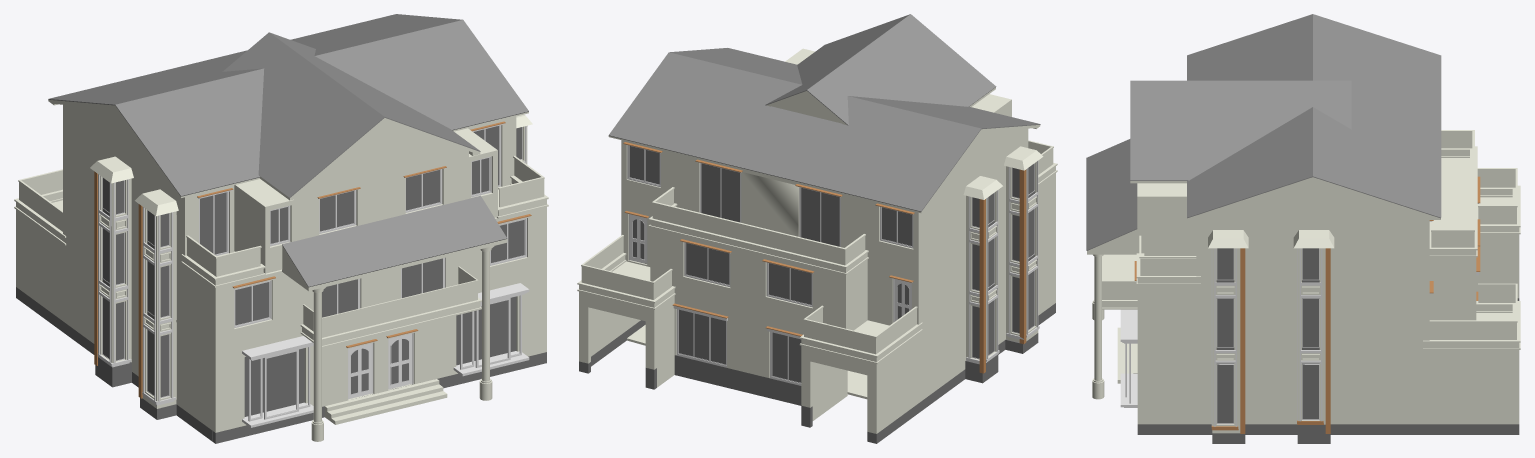
Rendered from house.FBX.
3 views of the same model, side by side, from view 1: azimuth 30°, elevation 25°; view 2: azimuth 150°, elevation 25°; view 3: azimuth 270°, elevation 25° (orthographic). The views are drawn at different scales.
Parts seen in each view (by area): view 1: 55_obj(1002188), 153_obj(1002188), 151_obj(1002188), 372_obj(1002188), 150_obj(1002188), 373_obj(1002188), 158_obj(1002188), 382_obj(1002188), 383_obj(1002188), 154_obj(1002188), 375_obj(1002188), 130_obj(1002188) (+27 smaller); view 2: 55_obj(1002188), 153_obj(1002188), 151_obj(1002188), 376_obj(1002188), 379_obj(1002188), 147_obj(1002188), 72_obj(1002188), 185_obj(1002188), 189_obj(1002188), 382_obj(1002188), 383_obj(1002188), 296_obj(1002188) (+18 smaller); view 3: 55_obj(1002188), 153_obj(1002188), 151_obj(1002188), 150_obj(1002188), 66_obj(1002188), 380_obj(1002188), 381_obj(1002188), 132_obj(1002188), 185_obj(1002188), 189_obj(1002188), 147_obj(1002188), 219_obj(1002188) (+16 smaller).
Boxes of the visible parts, left/top/right/bottom form: 55_obj(1002188): left=16, top=105, right=546, bottom=432; 153_obj(1002188): left=48, top=14, right=528, bottom=196; 151_obj(1002188): left=222, top=32, right=480, bottom=197; 372_obj(1002188): left=235, top=220, right=524, bottom=416; 150_obj(1002188): left=282, top=195, right=507, bottom=287; 373_obj(1002188): left=270, top=158, right=489, bottom=243; 158_obj(1002188): left=303, top=268, right=477, bottom=337; 382_obj(1002188): left=147, top=210, right=168, bottom=397; 383_obj(1002188): left=102, top=178, right=124, bottom=360; 154_obj(1002188): left=213, top=352, right=546, bottom=443; 375_obj(1002188): left=200, top=192, right=226, bottom=254; 130_obj(1002188): left=18, top=289, right=212, bottom=441; 55_obj(1002188): left=579, top=48, right=1055, bottom=433; 153_obj(1002188): left=608, top=48, right=1040, bottom=211; 151_obj(1002188): left=765, top=14, right=996, bottom=125; 376_obj(1002188): left=679, top=243, right=811, bottom=382; 379_obj(1002188): left=701, top=163, right=839, bottom=246; 147_obj(1002188): left=652, top=189, right=865, bottom=265; 72_obj(1002188): left=674, top=355, right=801, bottom=405; 185_obj(1002188): left=581, top=237, right=671, bottom=299; 189_obj(1002188): left=804, top=308, right=916, bottom=354; 382_obj(1002188): left=1012, top=164, right=1034, bottom=332; 383_obj(1002188): left=972, top=193, right=994, bottom=358; 296_obj(1002188): left=1019, top=169, right=1026, bottom=344; 55_obj(1002188): left=1137, top=151, right=1519, bottom=433; 153_obj(1002188): left=1187, top=14, right=1441, bottom=218; 151_obj(1002188): left=1130, top=80, right=1351, bottom=180; 150_obj(1002188): left=1086, top=139, right=1137, bottom=250; 66_obj(1002188): left=1143, top=424, right=1513, bottom=434; 380_obj(1002188): left=1216, top=248, right=1234, bottom=423; 381_obj(1002188): left=1302, top=248, right=1319, bottom=419; 132_obj(1002188): left=1429, top=158, right=1469, bottom=245; 185_obj(1002188): left=1429, top=286, right=1516, bottom=339; 189_obj(1002188): left=1477, top=170, right=1516, bottom=224; 147_obj(1002188): left=1431, top=132, right=1474, bottom=247; 219_obj(1002188): left=1240, top=248, right=1245, bottom=433.
Bounding box in the file's own units: 136 × 99.62 × 142.
